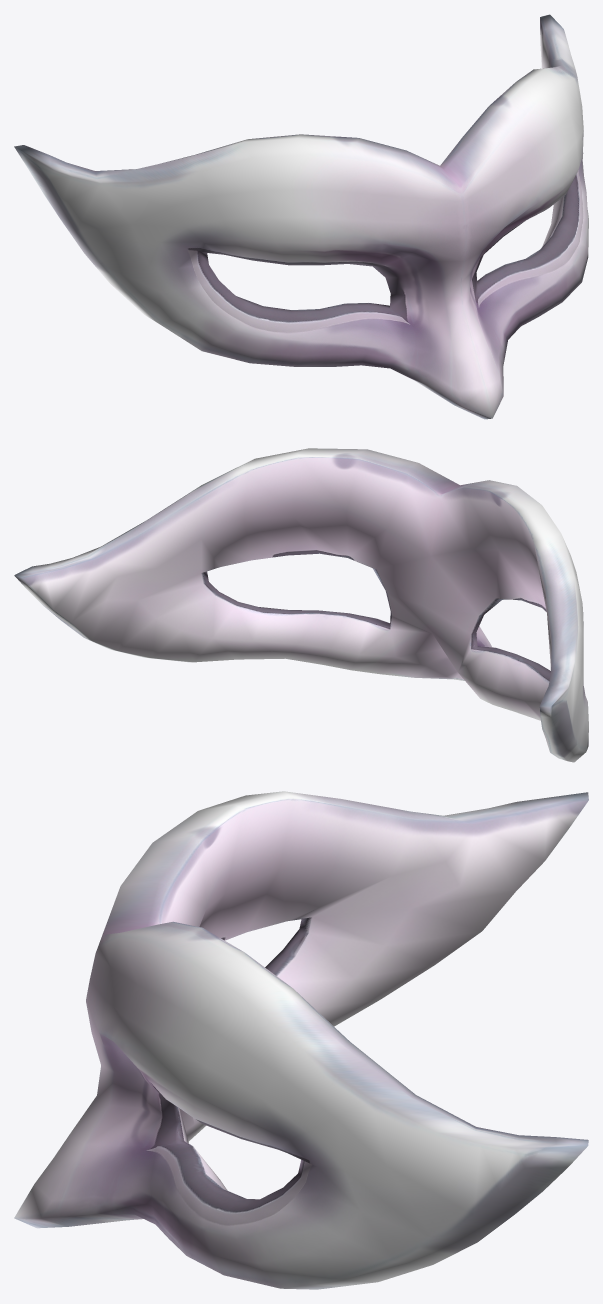
3 renders of one model, top to bottom at view 1: azimuth 30°, elevation 25°; view 2: azimuth 150°, elevation 25°; view 3: azimuth 270°, elevation 25°, orthographic. The views are drawn at different scales.
Visible parts, largest first — view 1: Wolf3D_Facewear; view 2: Wolf3D_Facewear; view 3: Wolf3D_Facewear.
Part boxes in pixels (box(x1,y1,x2,y2)): Wolf3D_Facewear: box(14, 14, 588, 419); Wolf3D_Facewear: box(14, 448, 588, 762); Wolf3D_Facewear: box(14, 791, 588, 1289).
Bounding box in the file's own units: 0.1865 × 0.085 × 0.1274.
Materials: 1 (1 with a texture image).
